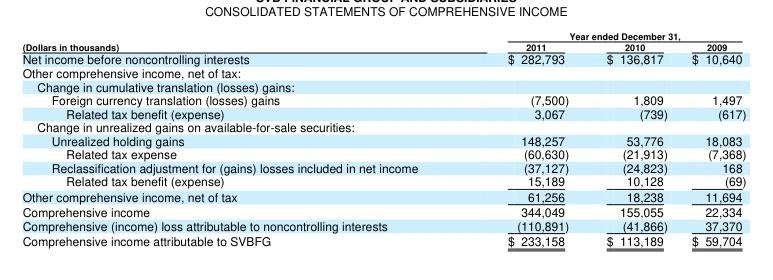table: (21, 28, 745, 248)
table column: (21, 28, 462, 248), (462, 28, 586, 248), (586, 28, 678, 248), (678, 28, 745, 248)
table column header: (21, 28, 745, 51)
table projected row header: (21, 65, 745, 79), (21, 119, 745, 133), (21, 79, 745, 92)
table row: (21, 232, 745, 248), (21, 173, 745, 188), (21, 188, 745, 203), (21, 203, 745, 218), (21, 51, 745, 65), (21, 65, 745, 79), (21, 92, 745, 106), (21, 119, 745, 133), (21, 146, 745, 160), (21, 218, 745, 232), (21, 79, 745, 92), (21, 106, 745, 119), (21, 133, 745, 146), (21, 160, 745, 173), (21, 28, 745, 40), (21, 40, 745, 51)
table spanning cell: (21, 28, 462, 51), (462, 28, 745, 40)
